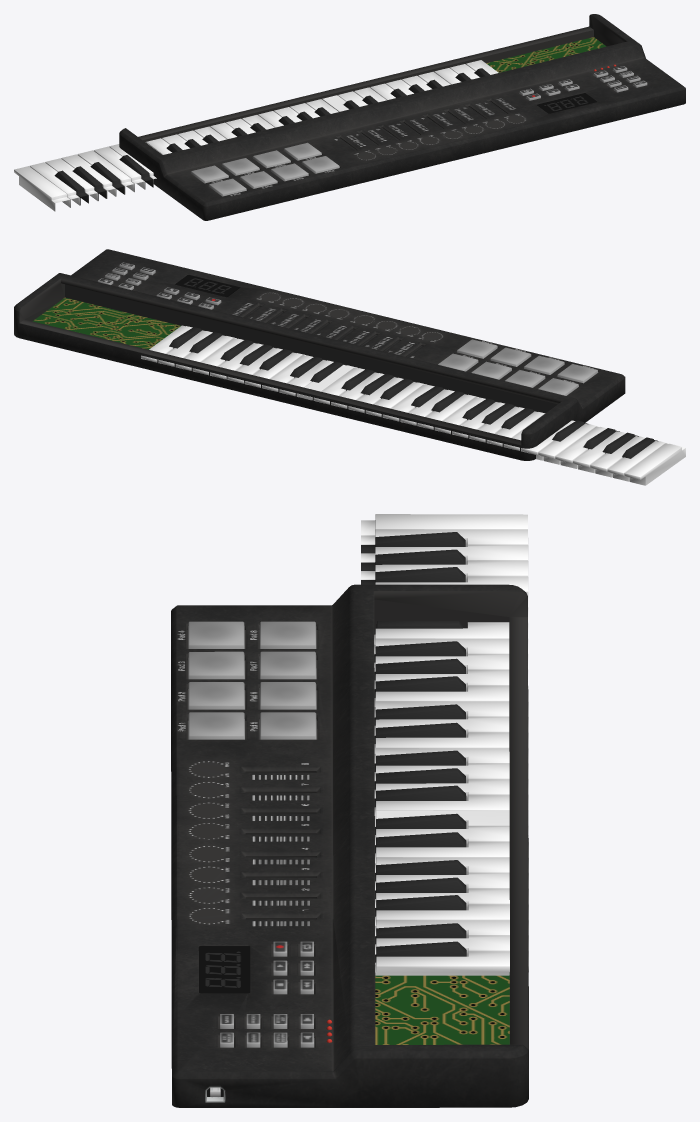
Rendered from NFG-I0035.glb.
3 renders of one model, top to bottom at view 1: azimuth 30°, elevation 25°; view 2: azimuth 150°, elevation 25°; view 3: azimuth 270°, elevation 25°, orthographic. The views are drawn at different scales.
Visible parts, largest first — view 1: BODY.001, White_Key_C5.001, White_Key_E4.001, White_key_F4.001, White_Key_B4.001, White_Key_G4.001, White_Key_A4.001, Black_key_Asharp4.001, Black_key_Gsharp4.001, Black_key_Fsharp4.001, Black_key_Dsharp4.001; view 2: BODY.001, White_Key_C5.001, White_Key_E4.001, White_Key_B4.001, White_key_F4.001, White_Key_A4.001, White_Key_G4.001, White_Key_E1.001, White_Key_E2.001, White_Key_E3.001, White_Key_B2.001, White_Key_B1.001 (+16 smaller); view 3: BODY.001, White_key_C1.001, White_Key_C5.001, White_key_C3.001, White_Key_G4.001, White_key_C4.001, White_key_F3.001, White_key_F1.001, White_key_C2.001, White_Key_B4.001, White_Key_A4.001, White_key_F2.001 (+34 smaller).
Boxes of the visible parts, bbox=[...] form: BODY.001: bbox=[119, 14, 685, 220]; White_Key_C5.001: bbox=[14, 166, 70, 211]; White_Key_E4.001: bbox=[93, 146, 144, 191]; White_key_F4.001: bbox=[77, 150, 134, 194]; White_Key_B4.001: bbox=[29, 162, 79, 207]; White_Key_G4.001: bbox=[61, 154, 115, 198]; White_Key_A4.001: bbox=[45, 158, 97, 202]; Black_key_Asharp4.001: bbox=[54, 170, 88, 205]; Black_key_Gsharp4.001: bbox=[72, 166, 106, 200]; Black_key_Fsharp4.001: bbox=[90, 162, 124, 196]; Black_key_Dsharp4.001: bbox=[119, 155, 153, 189]; BODY.001: bbox=[14, 249, 625, 460]; White_Key_C5.001: bbox=[624, 443, 685, 485]; White_Key_E4.001: bbox=[538, 423, 599, 464]; White_Key_B4.001: bbox=[607, 440, 668, 481]; White_key_F4.001: bbox=[555, 426, 606, 468]; White_Key_A4.001: bbox=[590, 436, 645, 477]; White_Key_G4.001: bbox=[573, 431, 625, 473]; White_Key_E1.001: bbox=[175, 335, 236, 370]; White_Key_E2.001: bbox=[296, 365, 357, 400]; White_Key_E3.001: bbox=[417, 394, 478, 429]; White_Key_B2.001: bbox=[365, 382, 426, 417]; White_Key_B1.001: bbox=[244, 352, 306, 387]; BODY.001: bbox=[171, 584, 528, 1107]; White_key_C1.001: bbox=[375, 951, 528, 975]; White_Key_C5.001: bbox=[361, 514, 527, 535]; White_key_C3.001: bbox=[374, 732, 528, 754]; White_Key_G4.001: bbox=[361, 560, 528, 582]; White_key_C4.001: bbox=[374, 623, 528, 644]; White_key_F3.001: bbox=[374, 686, 528, 707]; White_key_F1.001: bbox=[375, 904, 528, 926]; White_key_C2.001: bbox=[375, 842, 528, 863]; White_Key_B4.001: bbox=[361, 529, 528, 546]; White_Key_A4.001: bbox=[361, 545, 528, 564]; White_key_F2.001: bbox=[374, 795, 528, 816].
Bounding box in the file's own units: 2 × 0.1022 × 0.5303.
Materials: 4 (1 with a texture image).
